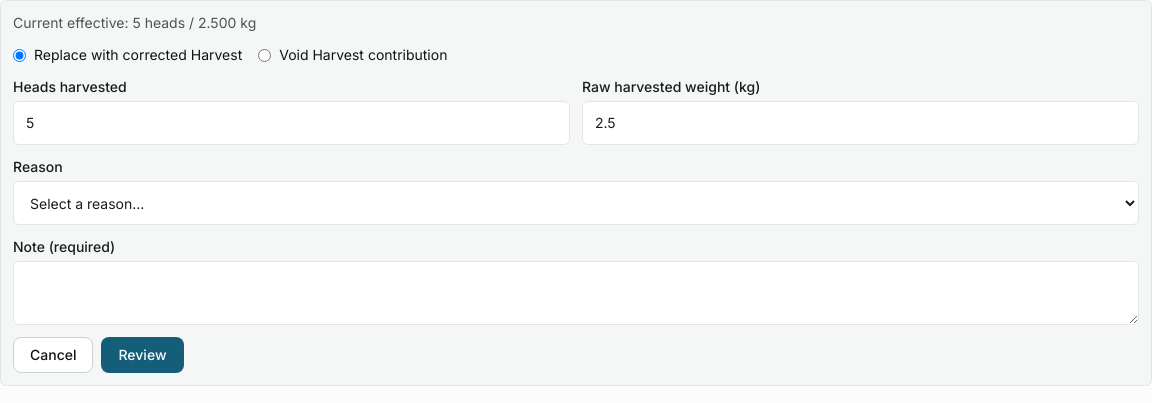
Scenario: CorrectHarvestForm biological population wording › current 5 -> corrected 4: restores 1 plant
Step 1. Replace the text in the number field labelled "Heads harvested" with "4" → (292, 123), box [13,101,570,145]
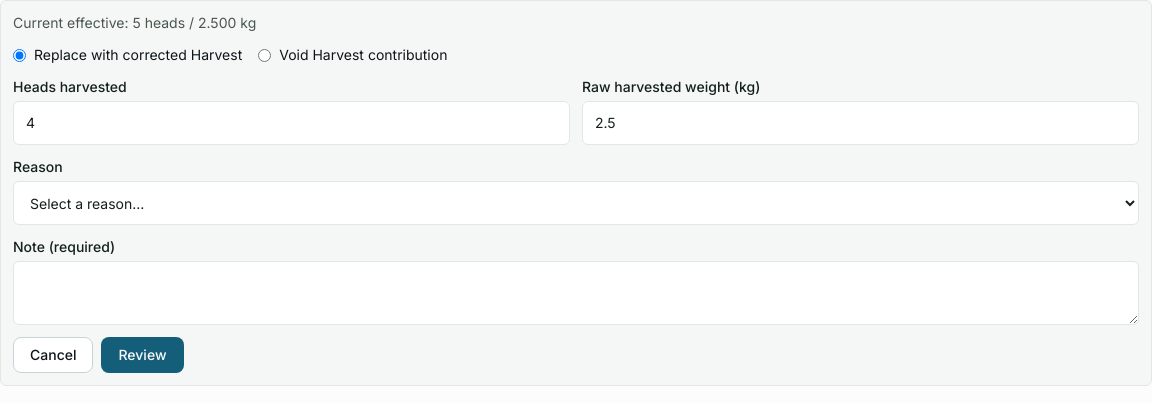
Step 2. Replace the text in the number field labelled "Raw harvested weight (kg)" with "2.000" → (860, 123), box [582,101,1139,145]
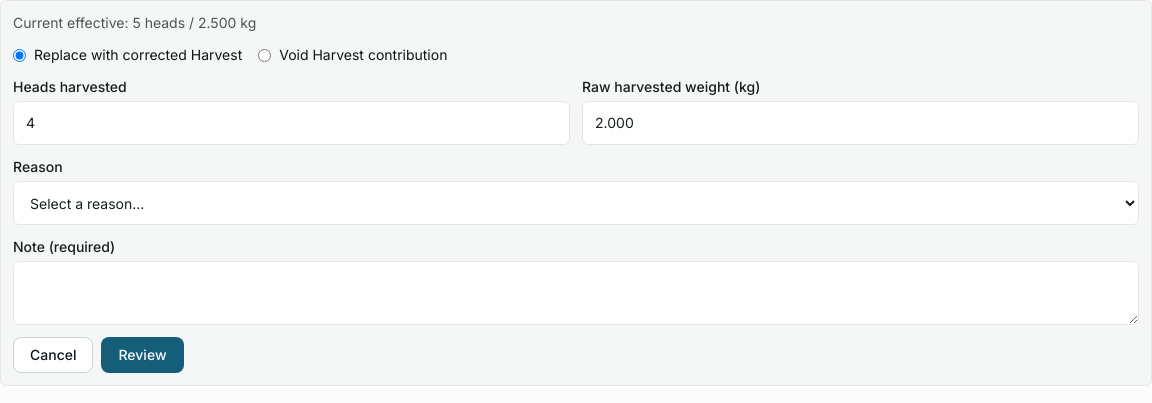
Step 3. Select "Miscounted" in the dropdown labelled "Reason" → (576, 203), box [13,181,1139,225]
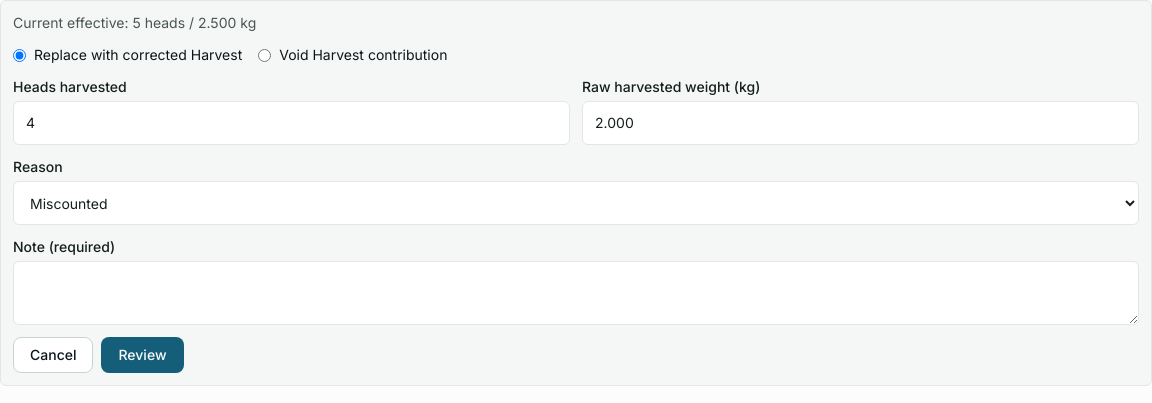
Step 4. Type "Recount" into the text box labelled "Note (required)" → (576, 293), box [13,261,1139,325]
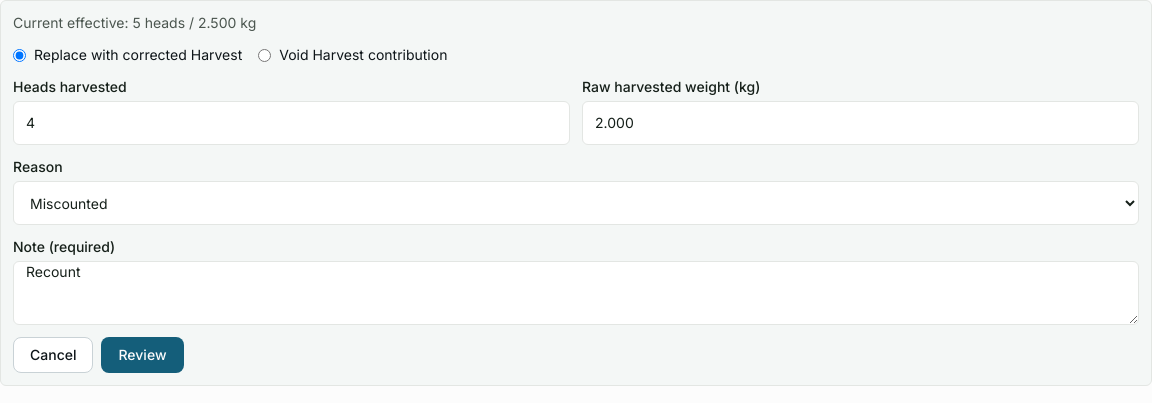
Step 5. Click the button "Review" → (142, 355), box [102,337,184,373]
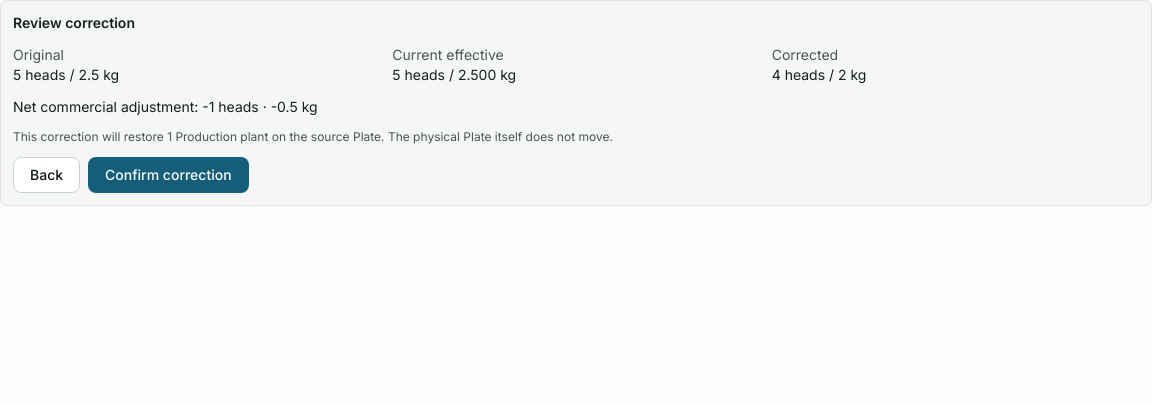
Now the text "This correction will restore 1 Production plant on the source Plate. The physical Plate itself does not move." is shown, box [13,129,613,144]
